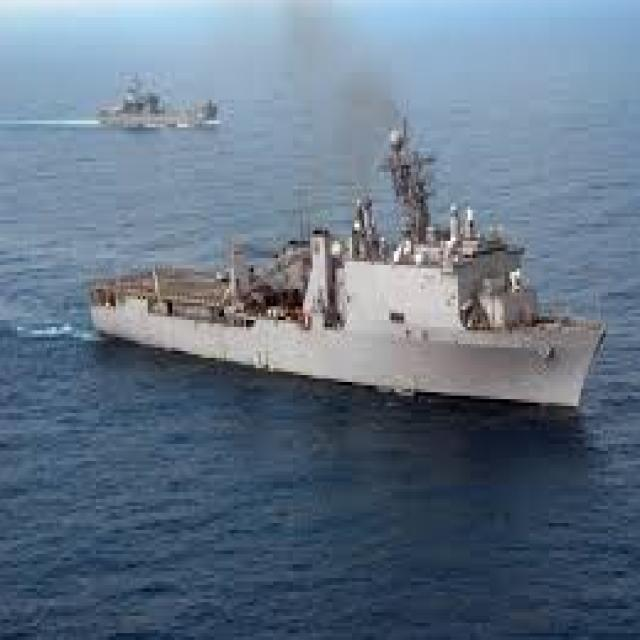navalvessels: (79, 120, 612, 427), (84, 69, 218, 156)
